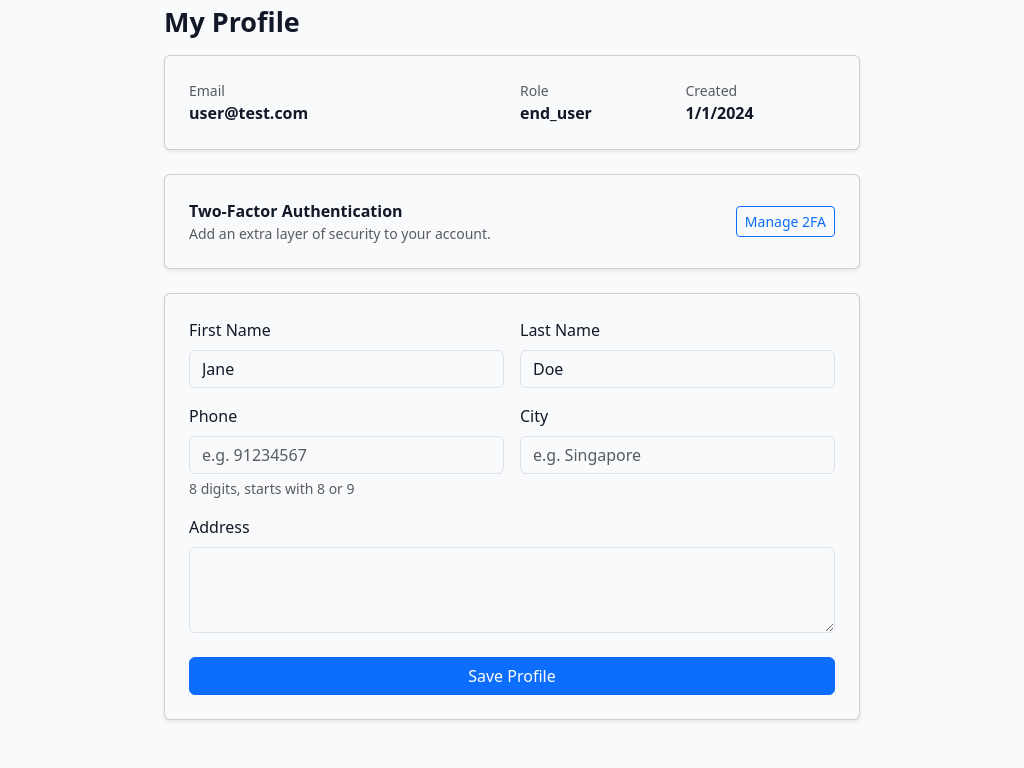
ProfilePage › shows success message after profile is saved
(page scrolled)
Click the button "Save Profile": (512, 676) [189,656,835,694]
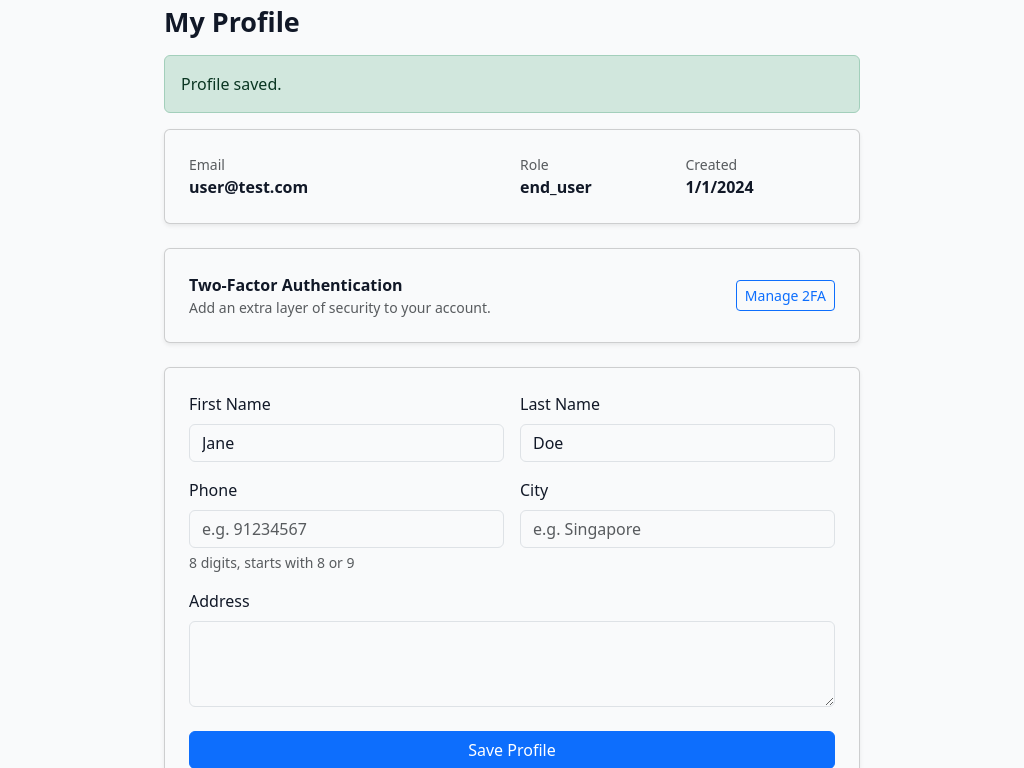
Check: the text "Profile saved." is shown, box [164,54,860,112]
